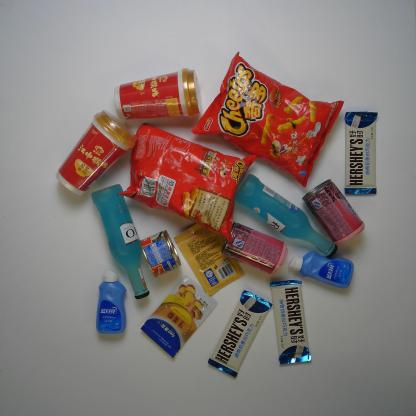Alcohol: (233, 170, 340, 260), (87, 182, 152, 301)
Canned Food: (301, 178, 367, 246), (220, 219, 292, 276), (137, 228, 183, 278)
Chocolate: (207, 288, 274, 381), (268, 278, 314, 366), (341, 110, 382, 197)
Instant Drink: (53, 108, 138, 198), (113, 66, 202, 123)
Personal Hygiene: (288, 248, 356, 292), (91, 268, 128, 335)
Puffed Food: (188, 50, 346, 191), (113, 120, 260, 244)
Seasoner: (139, 272, 219, 360), (172, 219, 245, 298)
